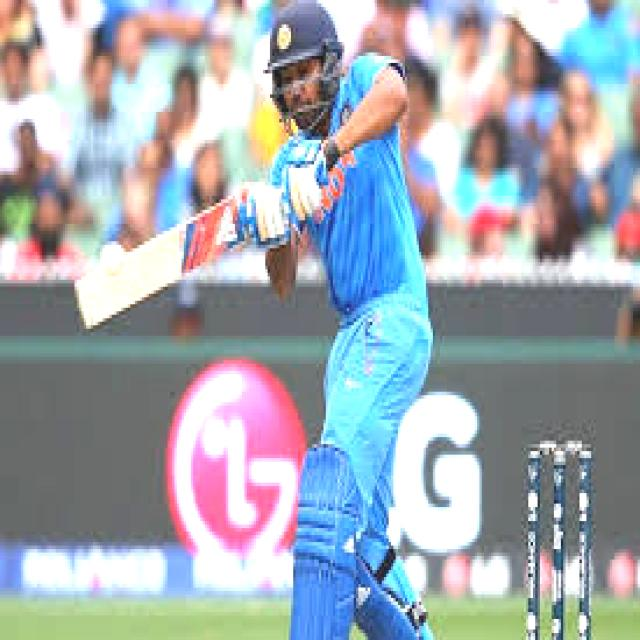toe: (70, 281, 105, 335)
